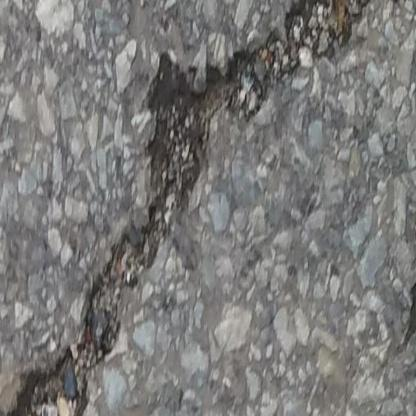Cracks: (1, 0, 416, 416), (398, 263, 416, 355)
